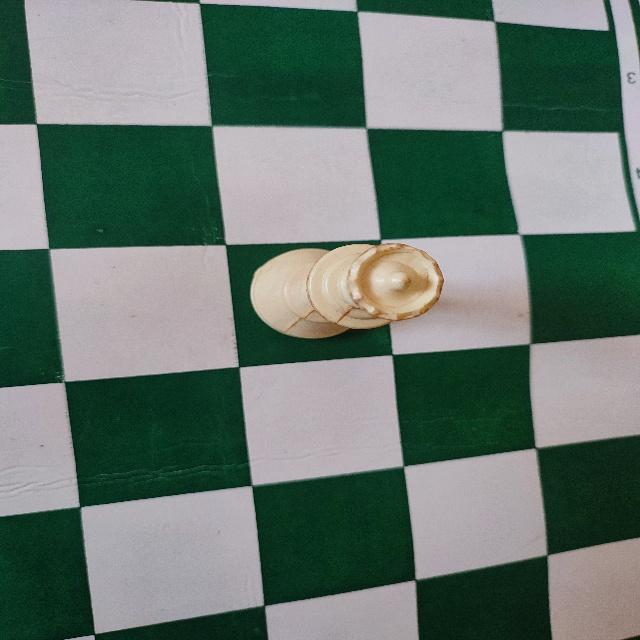Queen: (244, 239, 449, 347)
